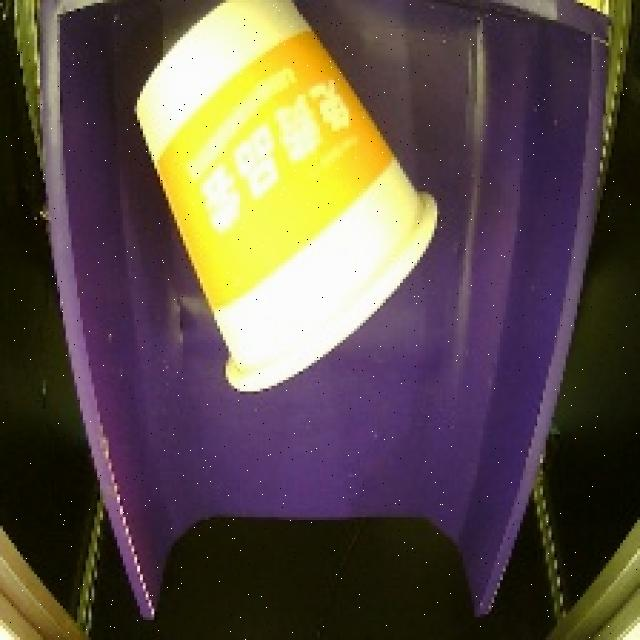cups: (120, 0, 449, 406)
